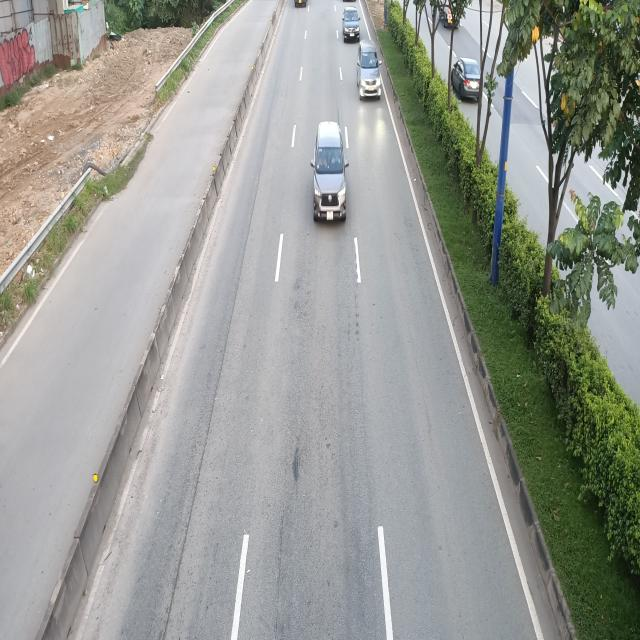car: (312, 120, 350, 222), (356, 41, 382, 100), (342, 5, 362, 42)
